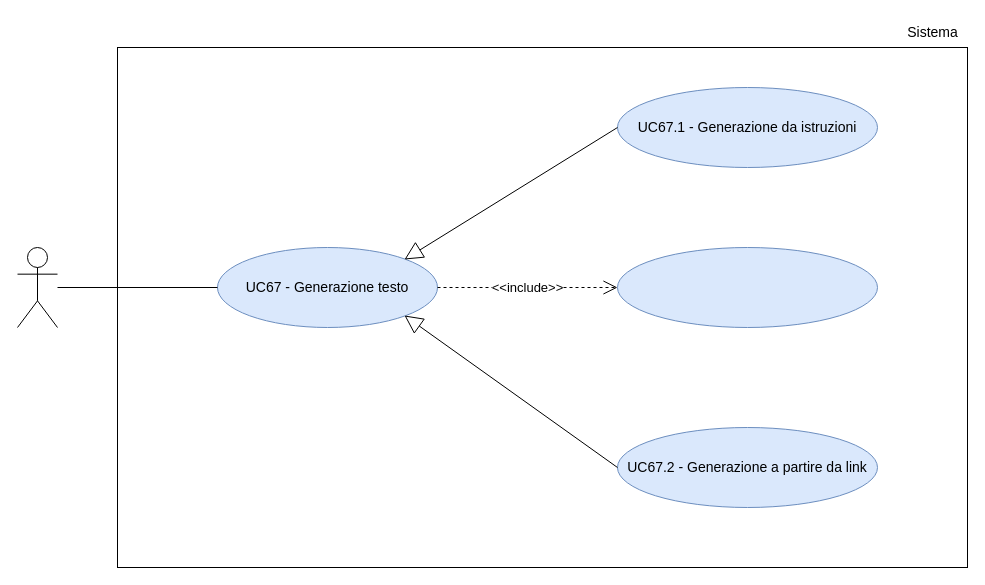
Some shapes in this 985 by 585 pixel diagram are drawn without their labels. Each missing label, with the box of its shape:
UC67.3 - Selezione della lunghezza del testo: (616, 246, 878, 328)
Utente: (16, 246, 58, 328)
